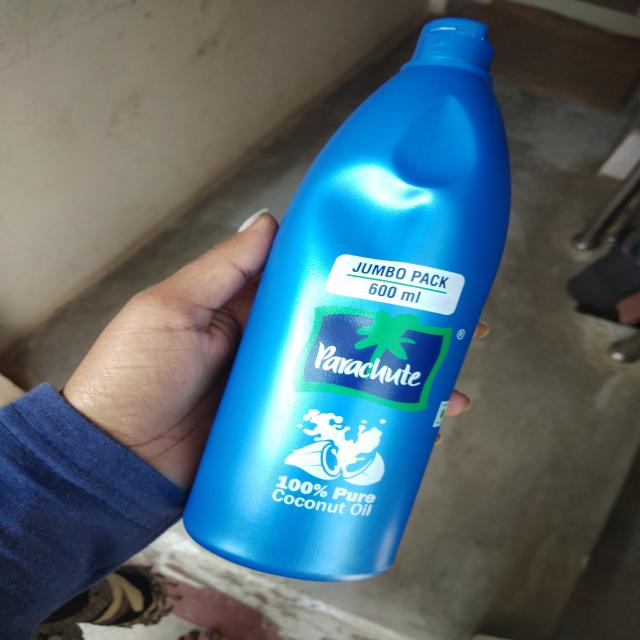parachute_oil: (228, 14, 512, 584)
